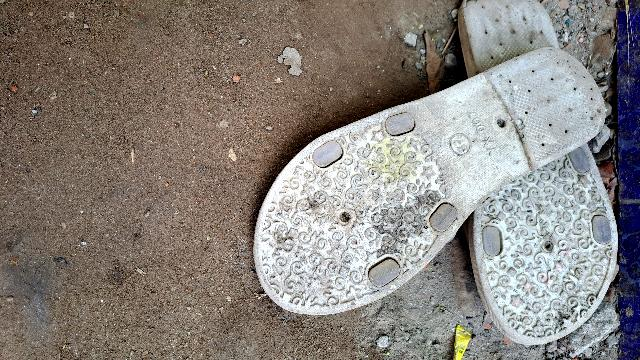sandal: (211, 25, 622, 344), (430, 0, 626, 330)
